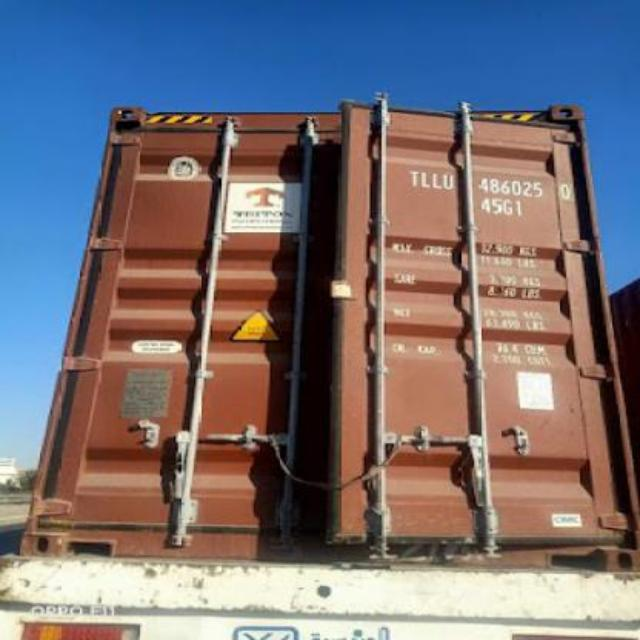0: (510, 174, 522, 198), (556, 180, 572, 198)
2: (520, 174, 532, 200)
4: (474, 173, 490, 191)
5: (534, 174, 546, 202)
6: (498, 171, 512, 197)
8: (490, 174, 500, 196)
L: (432, 165, 444, 195), (418, 163, 430, 190)
T: (402, 165, 420, 189)
U: (442, 172, 460, 192)
